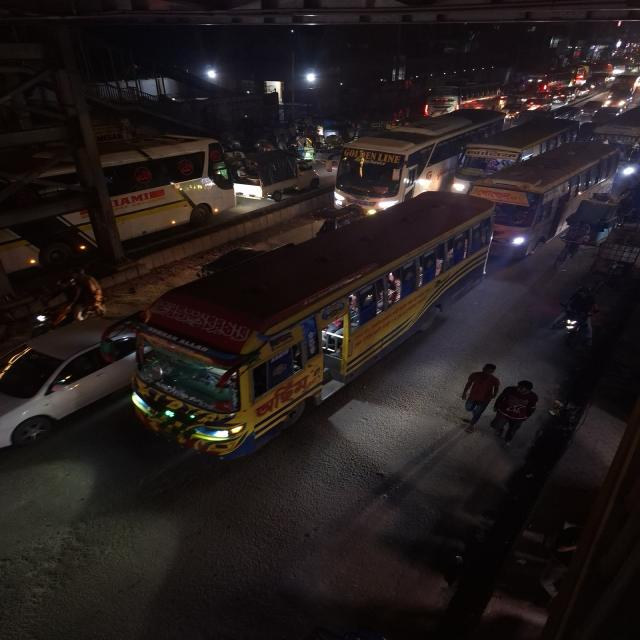bus: (124, 200, 494, 460), (332, 106, 507, 213), (466, 143, 616, 256), (111, 140, 241, 234), (594, 106, 640, 173)
car: (0, 315, 127, 461), (606, 84, 637, 106), (591, 105, 621, 121)
motorcycle: (548, 284, 604, 348)
pedestrian: (501, 368, 537, 456), (459, 360, 500, 430)
pickup_van: (230, 149, 322, 202)
rickshaw: (557, 195, 618, 259), (294, 138, 320, 162)
